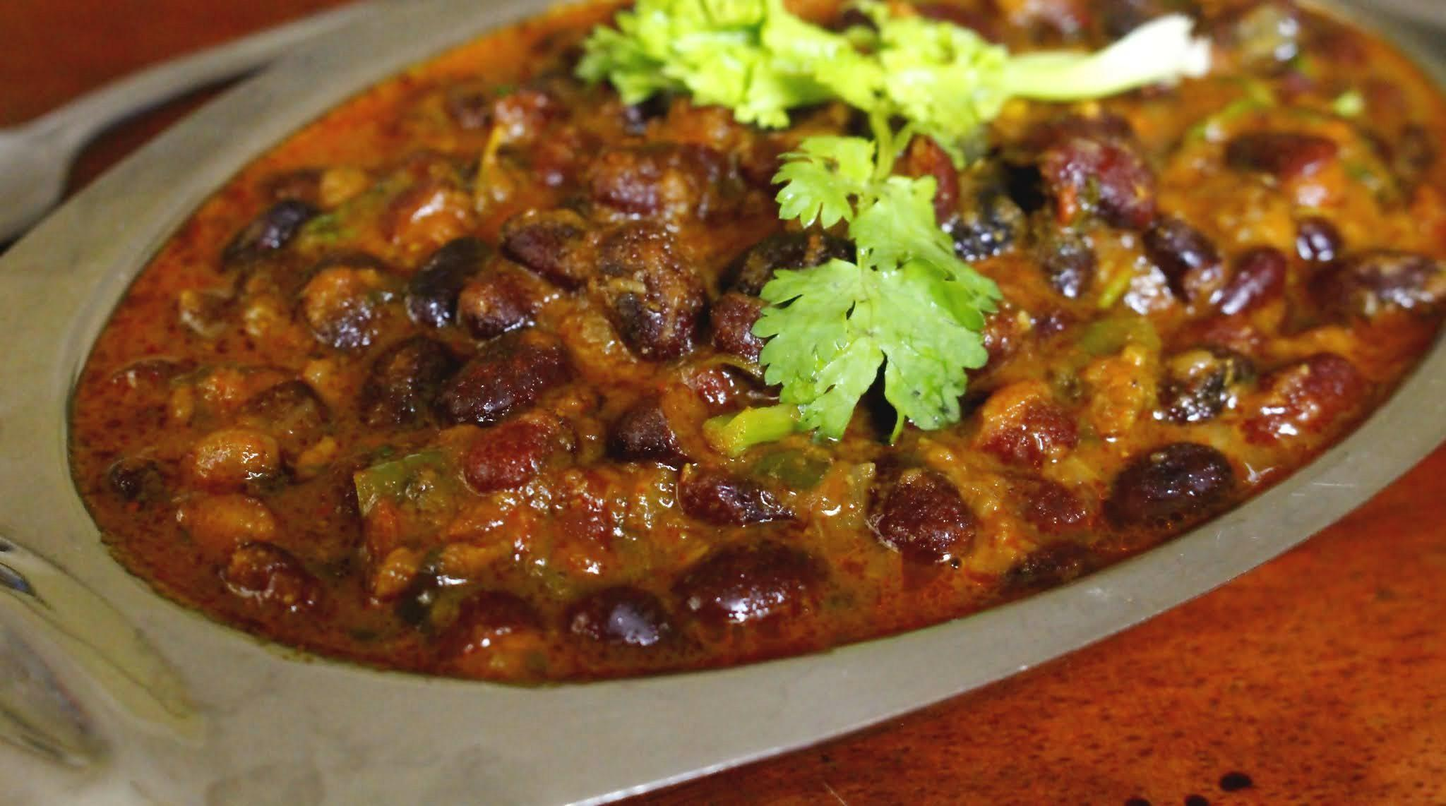RajmaCurry: (71, 0, 1446, 654)
